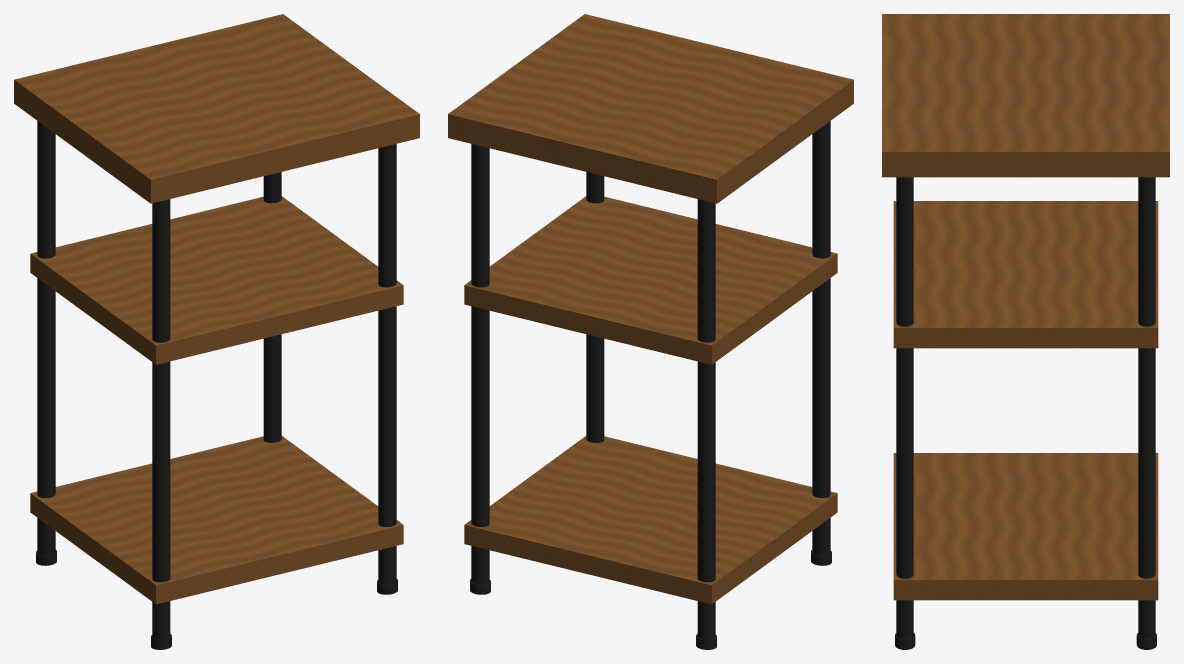
3 views of the same model, side by side, from view 1: azimuth 30°, elevation 25°; view 2: azimuth 150°, elevation 25°; view 3: azimuth 270°, elevation 25° (orthographic). The views are drawn at different scales.
Visible parts, largest first — view 1: 1 top_shelf, 2 middle_shelf, 3 bottom_shelf, 4 leg_fl, 5 leg_fr, 6 leg_bl, 7 leg_br; view 2: 1 top_shelf, 2 middle_shelf, 3 bottom_shelf, 6 leg_bl, 7 leg_br, 4 leg_fl, 5 leg_fr; view 3: 1 top_shelf, 2 middle_shelf, 3 bottom_shelf, 5 leg_fr, 7 leg_br.
Boxes of the visible parts, box(x1,y1,x2,y2) form: 1 top_shelf: box(14, 14, 419, 203); 2 middle_shelf: box(30, 196, 403, 364); 3 bottom_shelf: box(30, 436, 403, 604); 4 leg_fl: box(152, 199, 170, 639); 5 leg_fr: box(378, 144, 396, 584); 6 leg_bl: box(37, 121, 55, 555); 7 leg_br: box(263, 172, 281, 442); 1 top_shelf: box(448, 14, 853, 203); 2 middle_shelf: box(464, 196, 837, 364); 3 bottom_shelf: box(464, 436, 837, 604); 6 leg_bl: box(697, 199, 715, 639); 7 leg_br: box(471, 144, 489, 584); 4 leg_fl: box(812, 121, 830, 555); 5 leg_fr: box(586, 172, 604, 442); 1 top_shelf: box(882, 14, 1169, 177); 2 middle_shelf: box(893, 201, 1158, 348); 3 bottom_shelf: box(893, 453, 1158, 600); 5 leg_fr: box(896, 177, 913, 639); 7 leg_br: box(1138, 177, 1155, 639).
Size of the model in its own units: 0.3404 by 0.5791 by 0.2997.
Materials: 3 (1 with a texture image).
